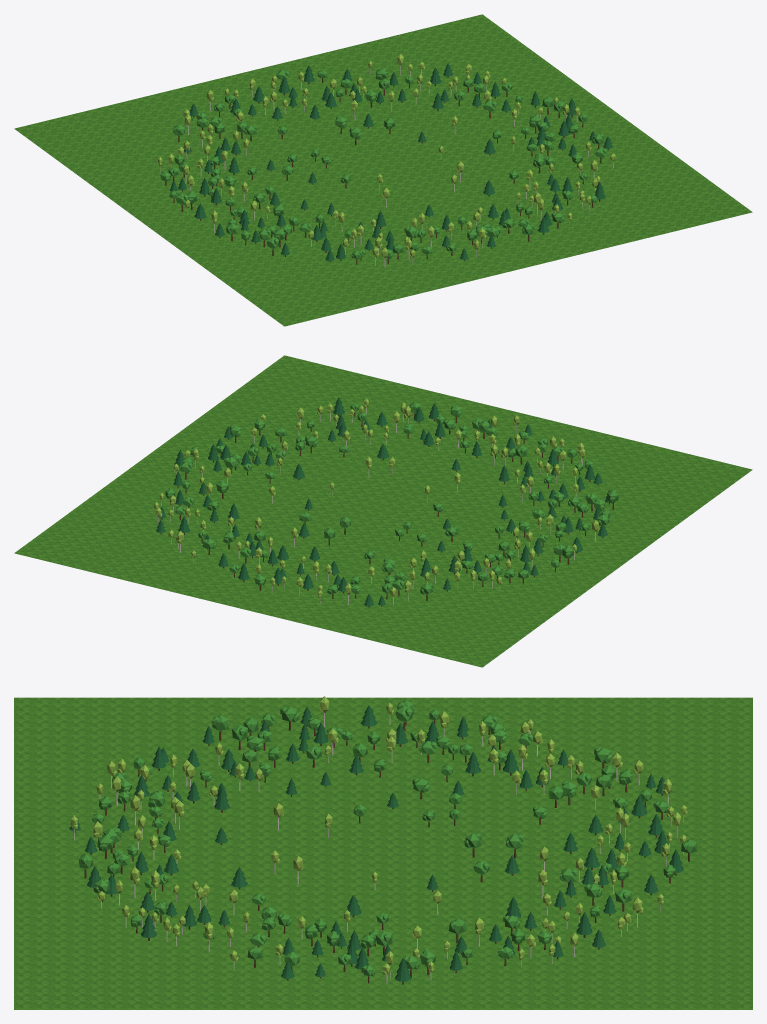
File: green_field.glb
3 views of the same model, one above another, from view 1: azimuth 30°, elevation 25°; view 2: azimuth 150°, elevation 25°; view 3: azimuth 270°, elevation 25° (orthographic). The views are drawn at different scales.
Parts seen in each view (by area): view 1: Ground; view 2: Ground; view 3: Ground.
Boxes of the visible parts, x1,y1,x2,y2 form: Ground: [14, 14, 752, 326]; Ground: [14, 355, 752, 667]; Ground: [14, 697, 752, 1009].
Bounding box in the file's own units: 160 × 7.55 × 160.
Materials: 6 (1 with a texture image).
